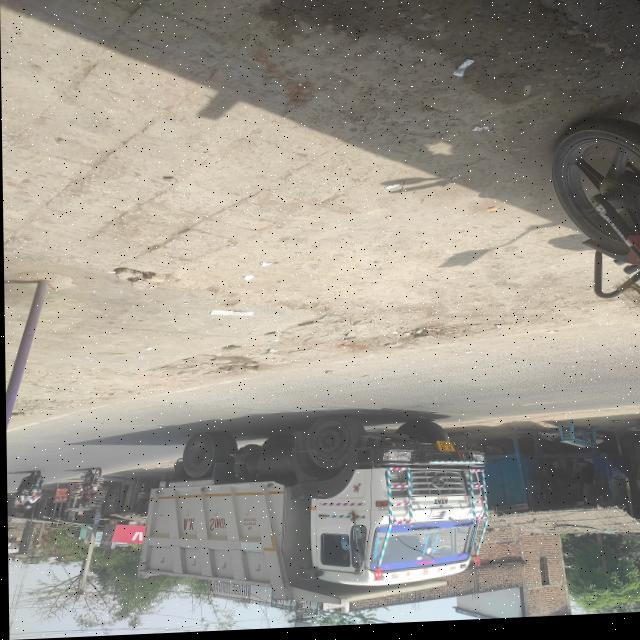plate: (434, 444, 454, 457), (29, 487, 38, 489), (91, 485, 99, 487)
